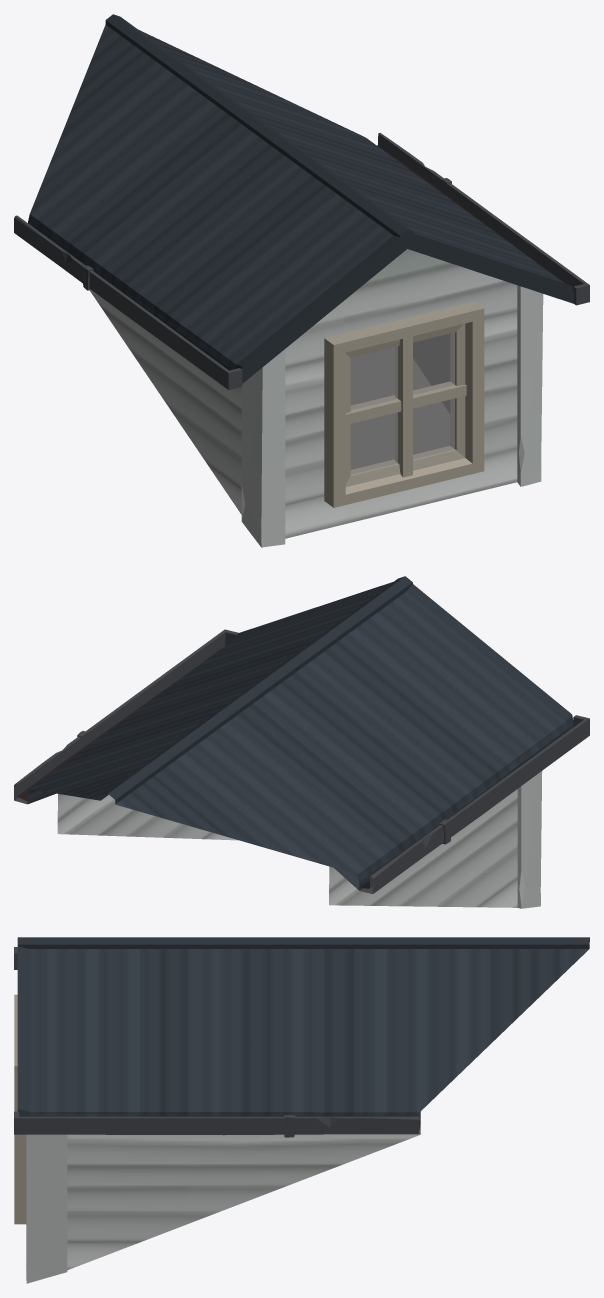
The model's file is SM_Bld_House_Roof_Window_02.fbx.
3 views of the same model, one above another, from view 1: azimuth 30°, elevation 25°; view 2: azimuth 150°, elevation 25°; view 3: azimuth 270°, elevation 25° (orthographic). The views are drawn at different scales.
Visible parts, largest first — view 1: SM_Bld_House_Roof_Window_02; view 2: SM_Bld_House_Roof_Window_02; view 3: SM_Bld_House_Roof_Window_02.
Boxes of the visible parts, x1,y1,x2,y2 form: SM_Bld_House_Roof_Window_02: (14,14,589,547); SM_Bld_House_Roof_Window_02: (14,576,589,908); SM_Bld_House_Roof_Window_02: (14,937,589,1283).
Bounding box in the file's own units: 239 × 181 × 336.
